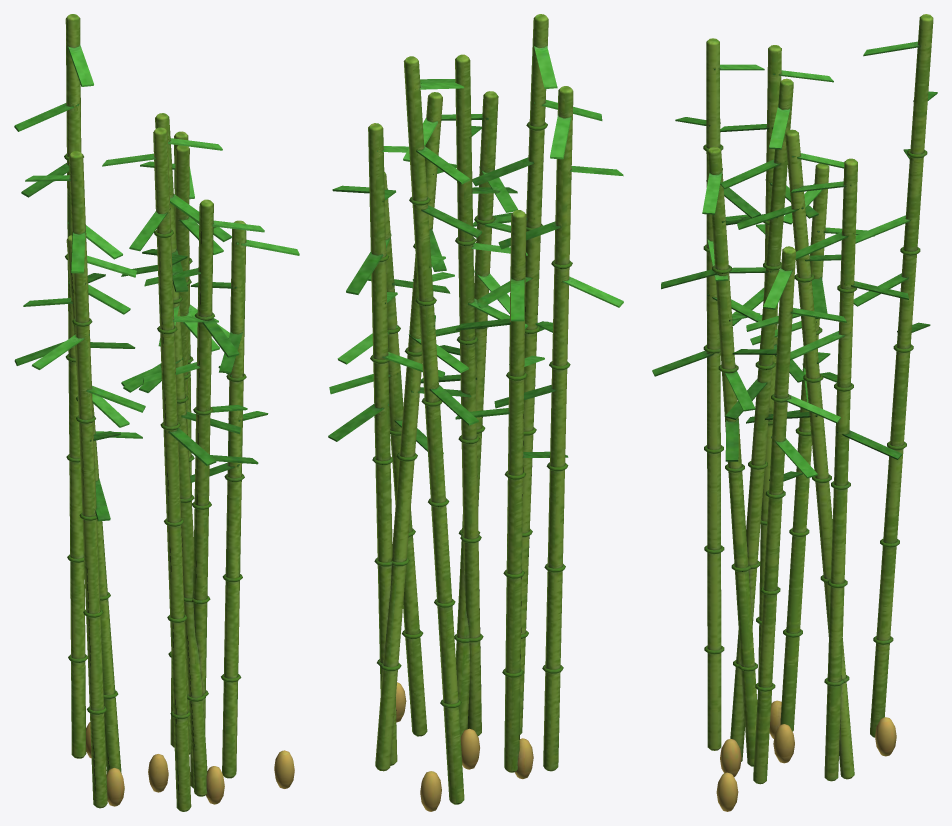
The model's file is bamboo_grove.glb.
3 renders of one model, left to right at view 1: azimuth 30°, elevation 25°; view 2: azimuth 150°, elevation 25°; view 3: azimuth 270°, elevation 25°, orthographic. The views are drawn at different scales.
Visible parts, largest first — view 1: swayX_canes, bamboo_grove; view 2: swayX_canes, bamboo_grove; view 3: swayX_canes, bamboo_grove.
Boxes of the visible parts, <box> form: swayX_canes: <box>14,14,299,811</box>; bamboo_grove: <box>86,722,294,806</box>; swayX_canes: <box>328,14,623,804</box>; bamboo_grove: <box>396,682,533,811</box>; swayX_canes: <box>652,14,937,784</box>; bamboo_grove: <box>716,700,896,811</box>.
Bounding box in the file's own units: 0.8683 × 2.25 × 0.7878.
1 material, 1 textured.
